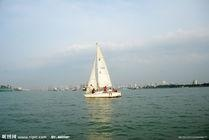fanchuan: (83, 38, 122, 101)
